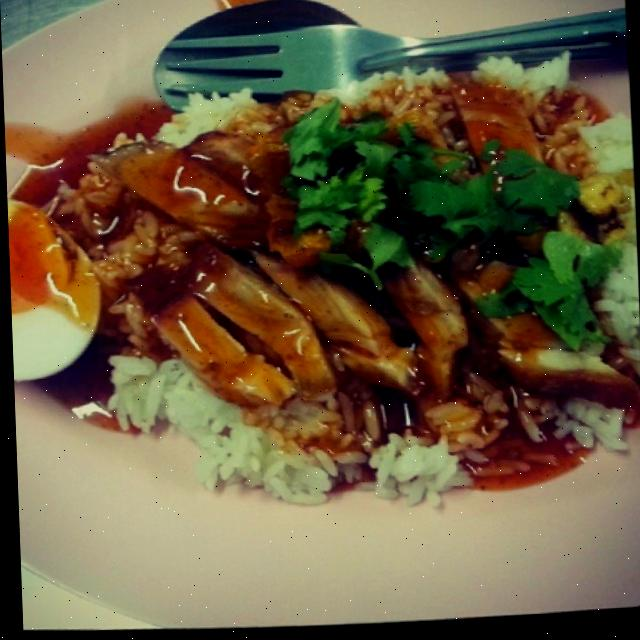猪肉菜式: (1, 9, 640, 580)
